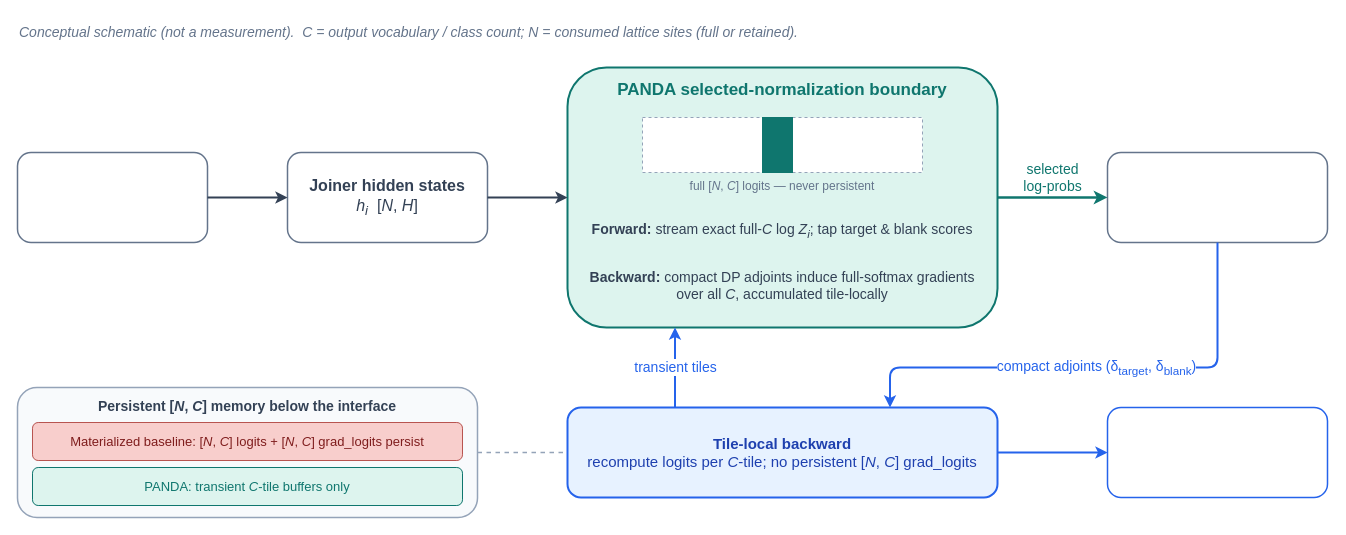
The diagram is 1346 pixels wide and 535 high, and some of its shapes have lost their labels. Each missing label, with the centre of its shape:
Lattice sites full or retained N sites: (x=112, y=197)
Persistent gradients ∇ h i , ∇ W , ∇ b: (x=1217, y=452)
tile: (x=777, y=144)
Transducer DP loss blank / target emissions only: (x=1217, y=197)
